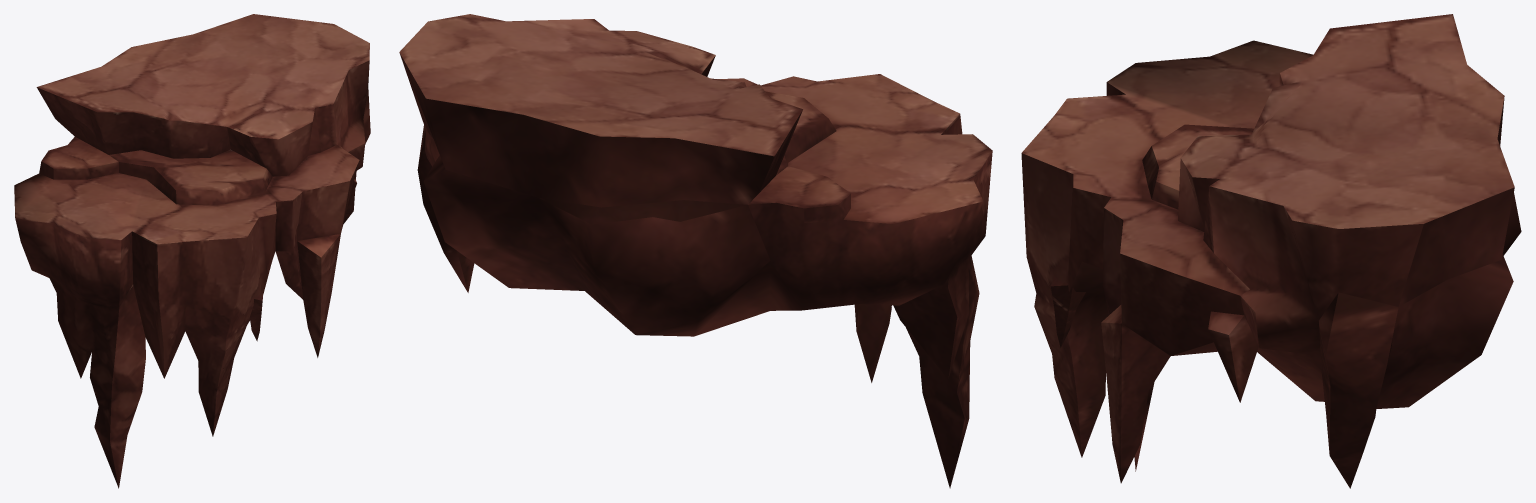
The model's file is BOSS_E_04.FBX.
3 views of the same model, side by side, from view 1: azimuth 30°, elevation 25°; view 2: azimuth 150°, elevation 25°; view 3: azimuth 270°, elevation 25° (orthographic). The views are drawn at different scales.
Parts seen in each view (by area): view 1: BOSS_E_04; view 2: BOSS_E_04; view 3: BOSS_E_04.
Boxes of the visible parts, left/top/right/bottom form: BOSS_E_04: left=14, top=14, right=370, bottom=488; BOSS_E_04: left=399, top=14, right=992, bottom=488; BOSS_E_04: left=1021, top=14, right=1521, bottom=488.
Bounding box in the file's own units: 12.44 × 9.87 × 9.41.
